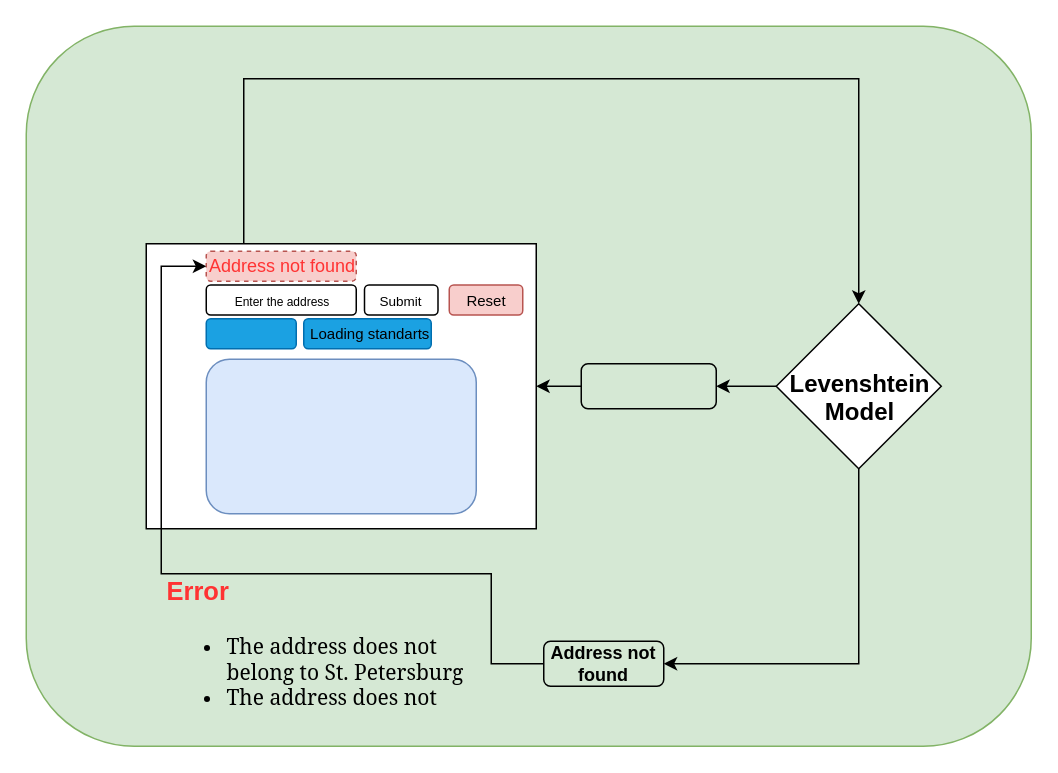
Some shapes in this 1058 by 773 pixel diagram are drawn without their labels. Here are the shapes that lost their labels. From the top down, the box of each, then its label:
(205, 317, 296, 349): Loading Data
(580, 362, 716, 409): Address found
(205, 358, 476, 514): Map
